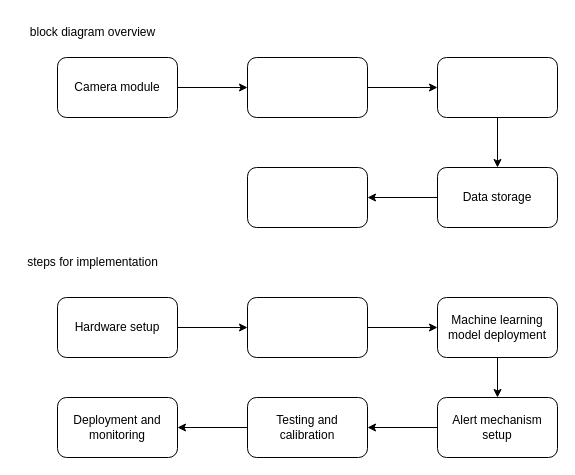
Some shapes in this 575 by 475 pixel diagram are drawn without their labels. Here are the shapes that lost their labels. From the top down, the centre of each, then its label:
At (x=307, y=87): "Raspberry PI processing".
At (x=497, y=87): "Alert system".
At (x=307, y=197): "User interface".
At (x=307, y=327): "Software installation".
